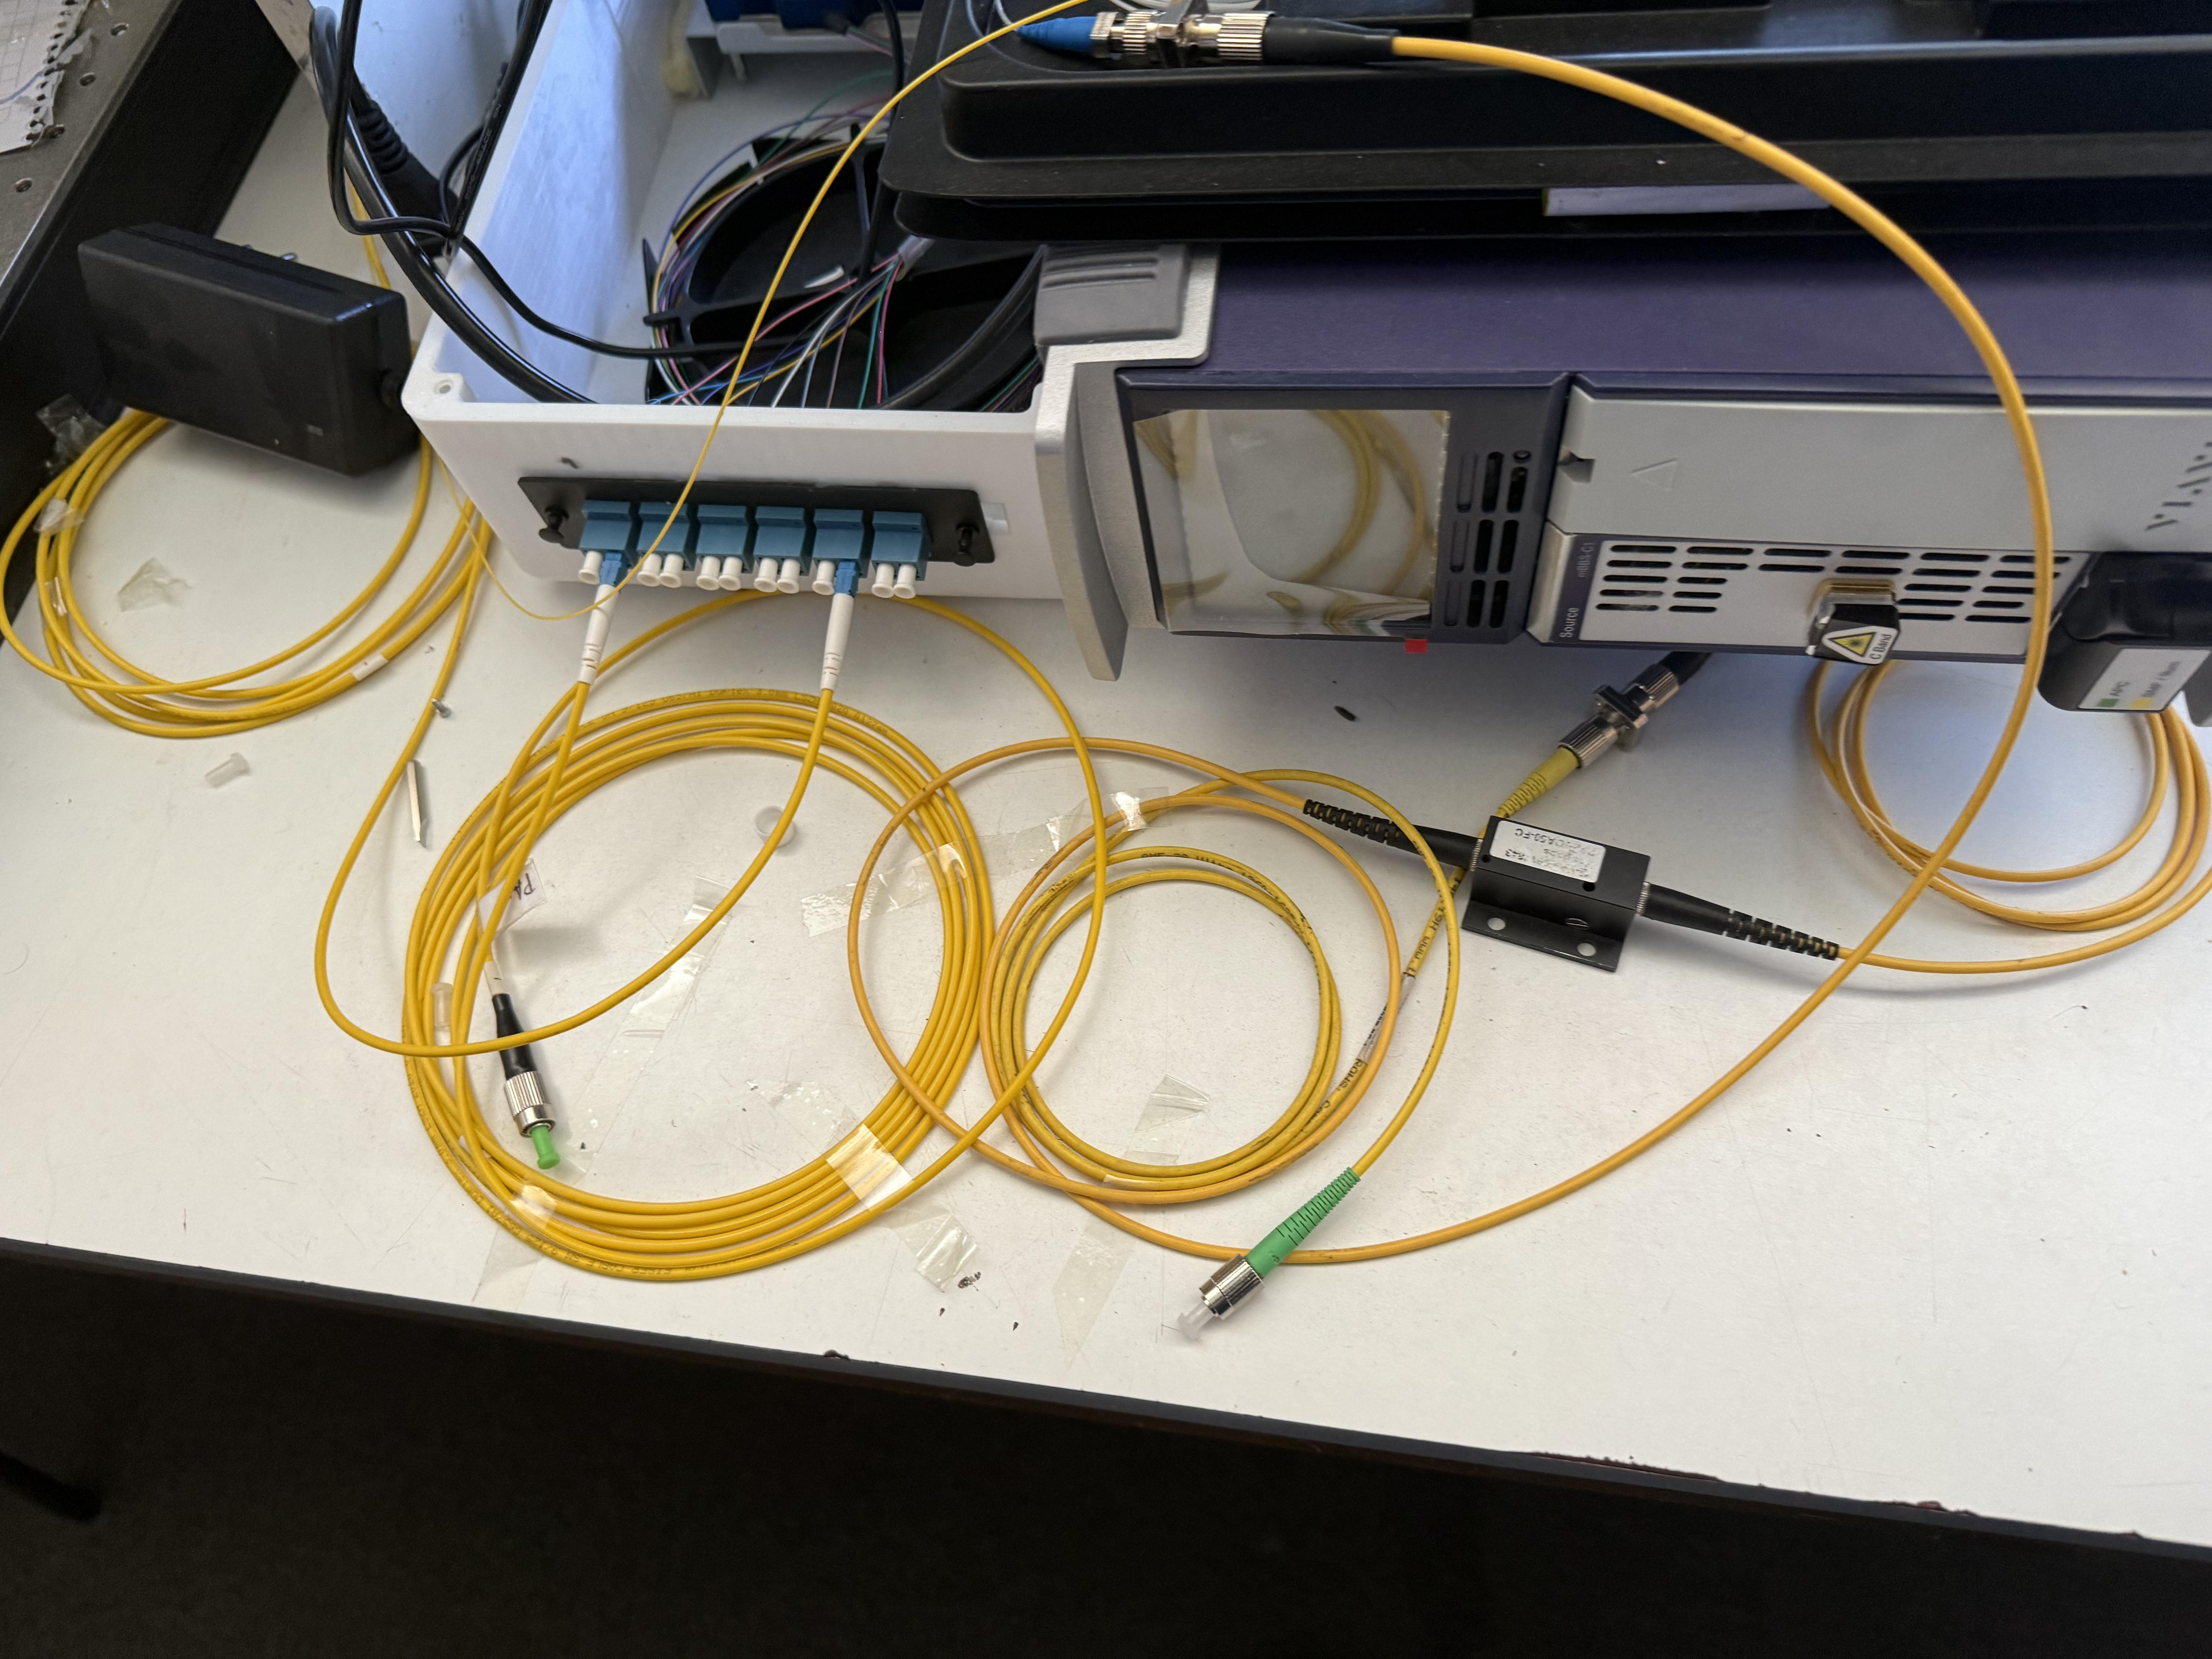fiber_cable: (387, 640, 2212, 1316), (19, 321, 526, 810)
laser: (380, 0, 2212, 699)
